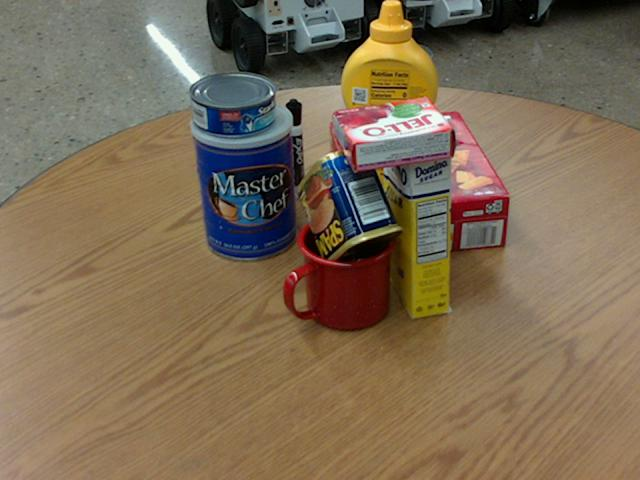cracker_box: (327, 110, 507, 259)
gelatin_box: (333, 96, 454, 170)
large_marker: (284, 100, 304, 200)
master_chef_can: (190, 97, 298, 259)
mug: (279, 213, 394, 332)
mustard_bottle: (341, 0, 437, 194)
potted_meat_can: (295, 147, 403, 271)
sugar_box: (379, 109, 449, 320)
tomato_soup_can: (370, 42, 431, 149)
tuna_fish_can: (188, 72, 274, 136)
